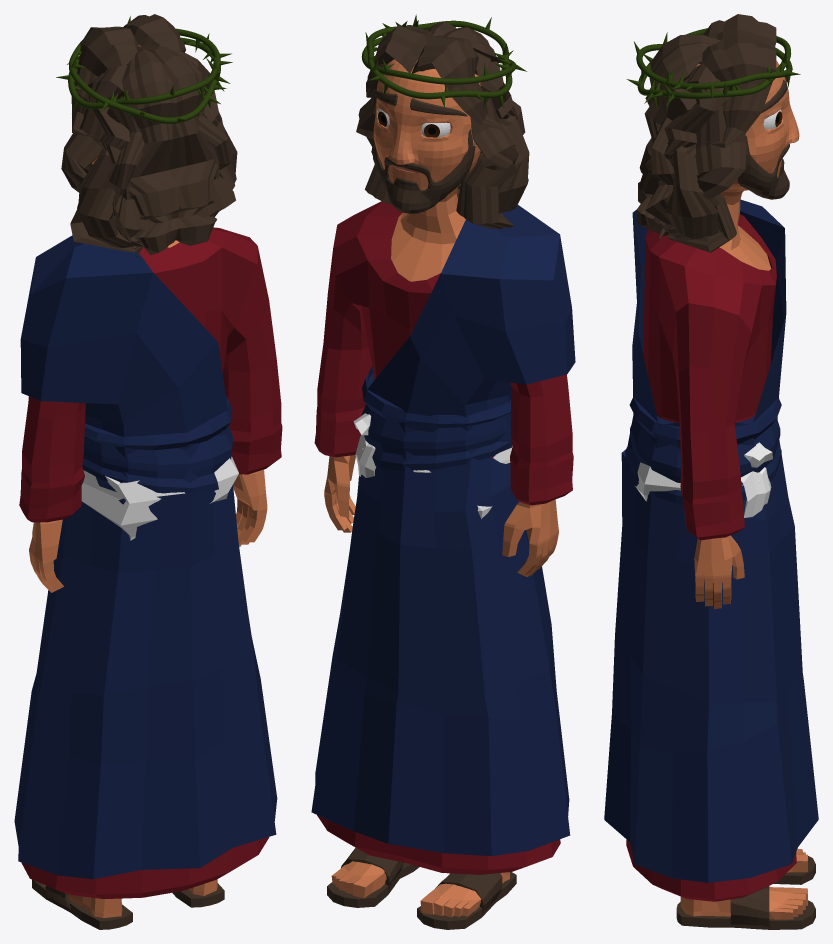
Rendered from jesus.glb.
3 views of the same model, side by side, from view 1: azimuth 30°, elevation 25°; view 2: azimuth 150°, elevation 25°; view 3: azimuth 270°, elevation 25° (orthographic).
Parts seen in each view (by area): view 1: Cloth outter, hair, Cloth, Cloth hip, Body, crown, Cloth Cross, charup; view 2: Cloth outter, Cloth, Body, hair, Cloth hip, charup, crown, beard, Cloth Cross, eye brow, EYE; view 3: Cloth outter, Cloth, hair, Body, Cloth hip, crown, charup, Cloth Cross, beard.
Part boxes in pixels (<box>): Cloth outter: <box>14,235,277,879</box>; hair: <box>61,14,237,256</box>; Cloth: <box>19,227,282,898</box>; Cloth hip: <box>82,395,233,493</box>; Body: <box>29,45,267,917</box>; crown: <box>56,16,232,123</box>; Cloth Cross: <box>81,456,238,540</box>; charup: <box>32,879,224,929</box>; Cloth outter: <box>311,205,575,856</box>; Cloth: <box>314,201,573,874</box>; Body: <box>324,59,558,917</box>; hair: <box>356,21,529,228</box>; Cloth hip: <box>361,373,511,470</box>; charup: <box>327,847,516,929</box>; crown: <box>361,14,526,108</box>; beard: <box>374,129,474,213</box>; Cloth Cross: <box>353,413,512,518</box>; eye brow: <box>374,90,467,116</box>; EYE: <box>377,108,450,137</box>; Cloth outter: <box>604,199,818,882</box>; Cloth: <box>626,214,796,901</box>; hair: <box>636,14,776,252</box>; Body: <box>680,60,807,919</box>; Cloth hip: <box>625,397,781,504</box>; crown: <box>626,28,800,108</box>; charup: <box>676,856,815,929</box>; Cloth Cross: <box>635,442,772,517</box>; beard: <box>737,136,789,199</box>.
Bounding box in the file's own units: 1.4 × 4.49 × 1.01.
